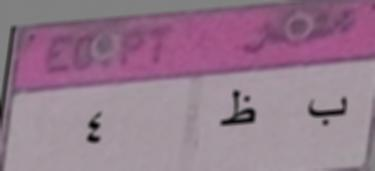4: (82, 106, 107, 147)
Thaa: (216, 84, 263, 135)
baa: (303, 86, 350, 136)
